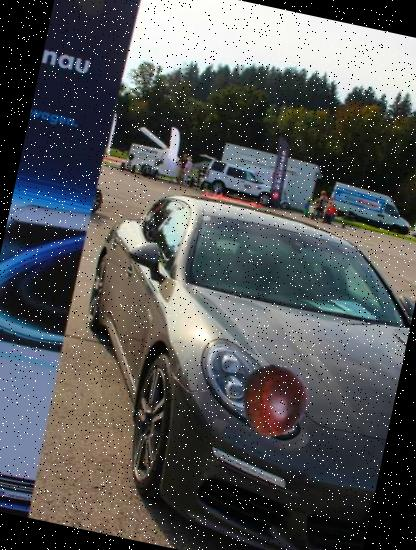Chestnut: (231, 358, 318, 446)
